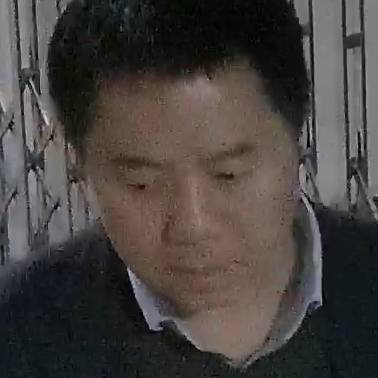cb: (37, 47, 318, 328)
